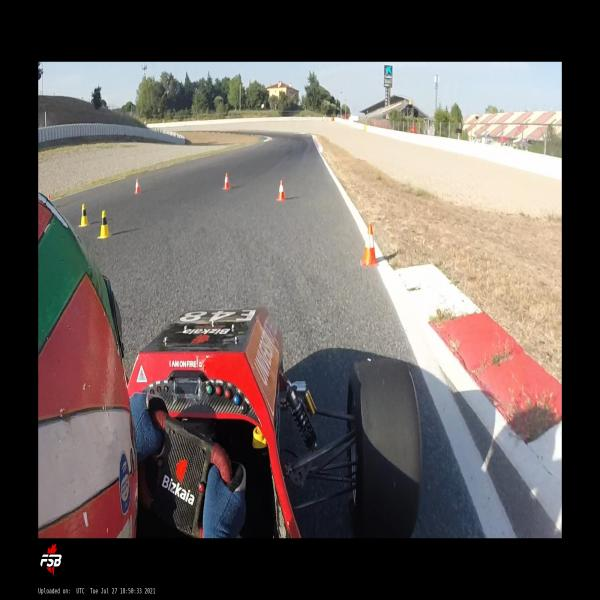orange_cone: (360, 224, 378, 267), (276, 180, 286, 201), (222, 173, 231, 190), (134, 178, 141, 194)
yellow_cone: (98, 210, 110, 238), (78, 203, 89, 227)
